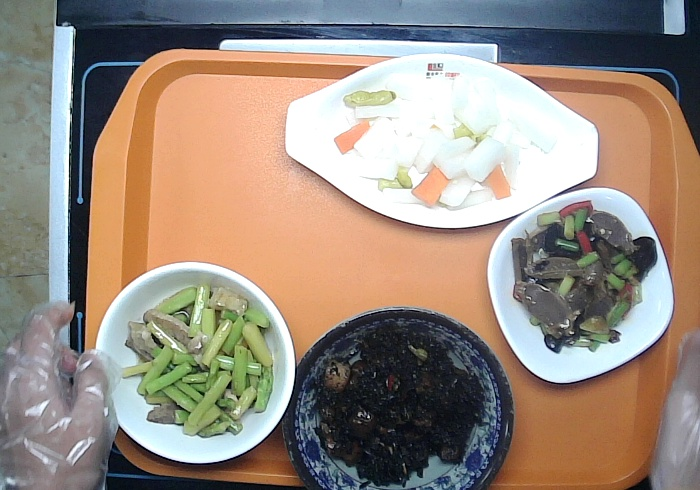ZNLD-Qing_Hua_Wan: (281, 304, 519, 490)
ZNLD-Si_Fang_Wan: (485, 185, 677, 385)
ZNLD-Tang_Wan: (93, 259, 298, 466)
ZNLD-Yu_Pan: (281, 50, 600, 230)
